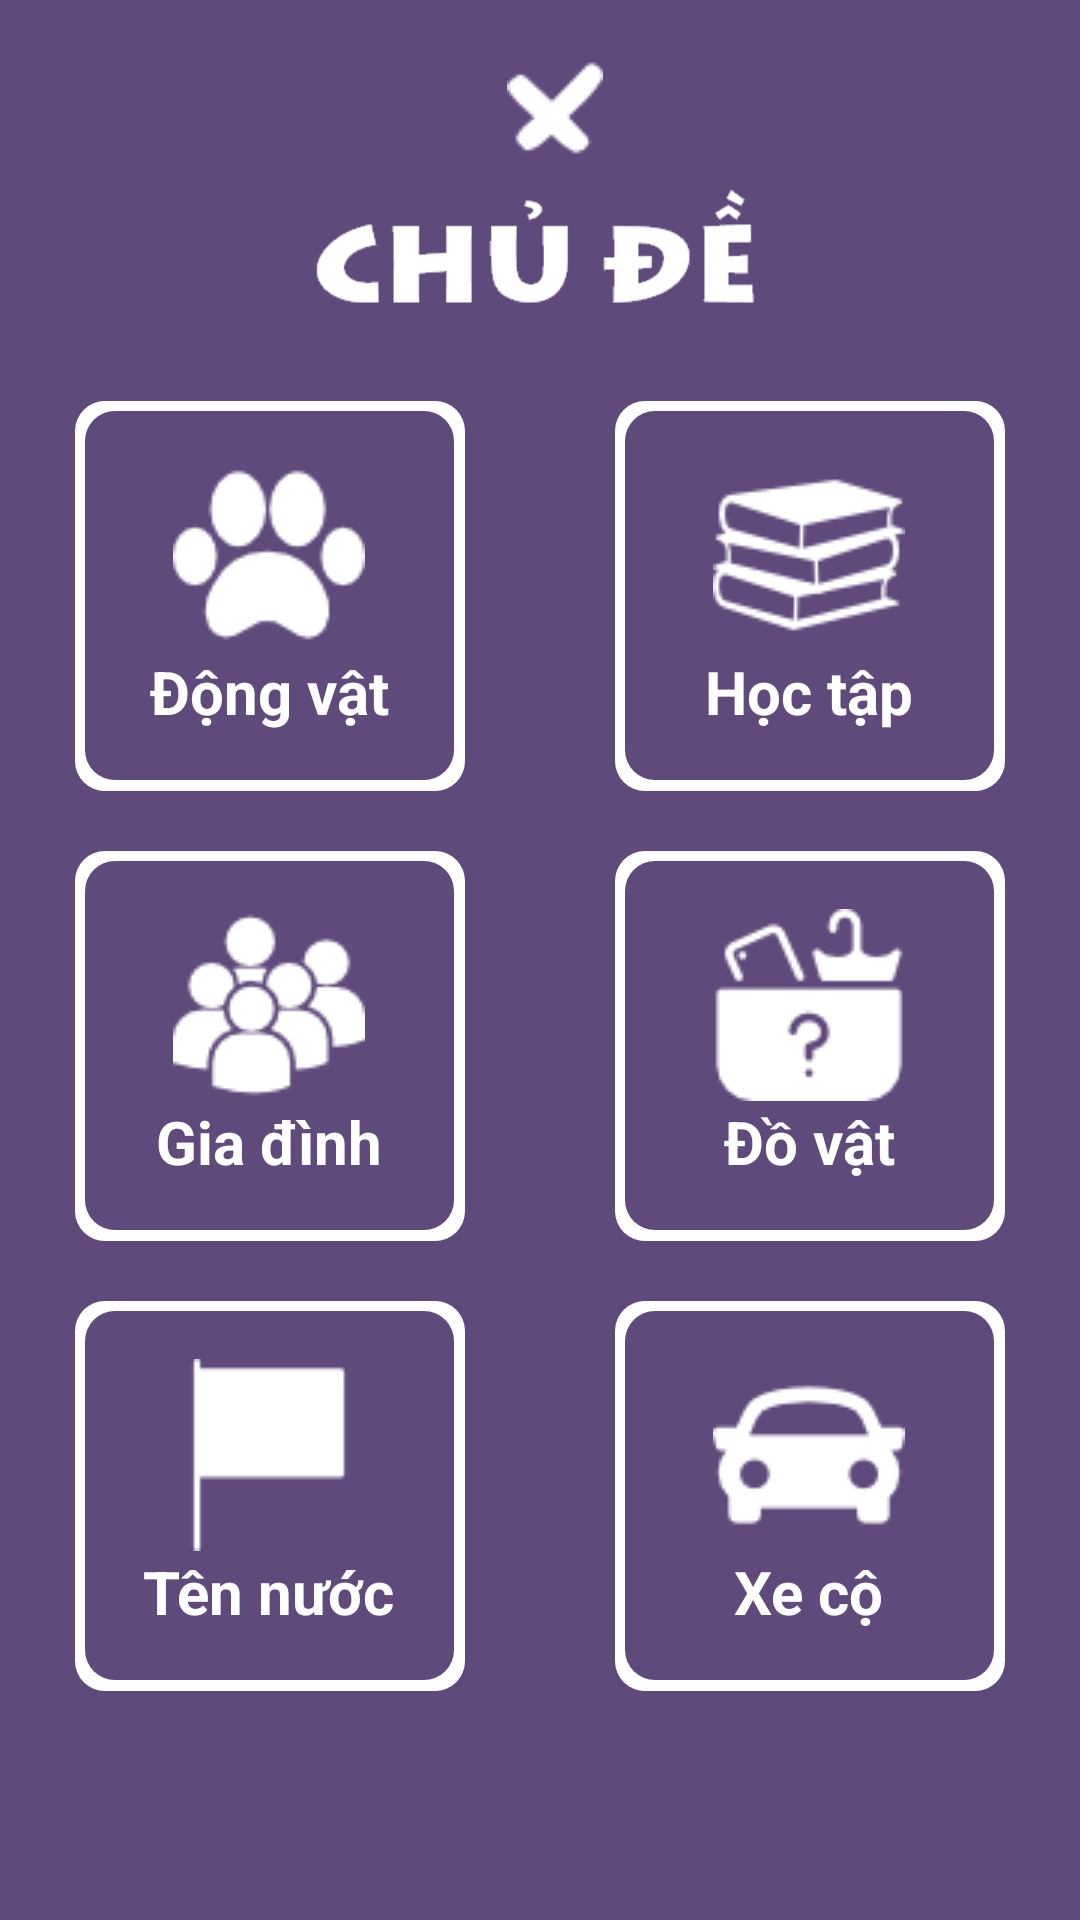

Where icons sit on this 1080px x 1920px app screen, as (x1, y1, x2, y2):
back: (507, 62, 603, 154)
theme book: (713, 479, 905, 631)
theme flag: (193, 1359, 345, 1551)
